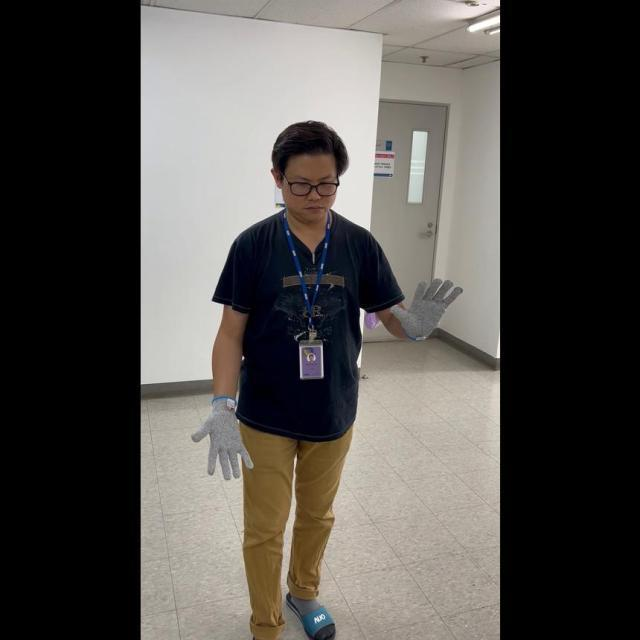gloved_hand: (191, 396, 254, 480), (388, 272, 460, 340)
